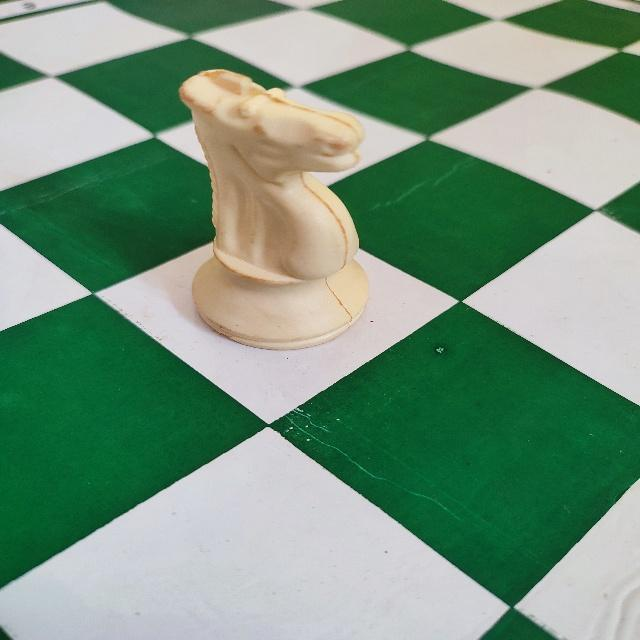Knight: (177, 64, 374, 354)
